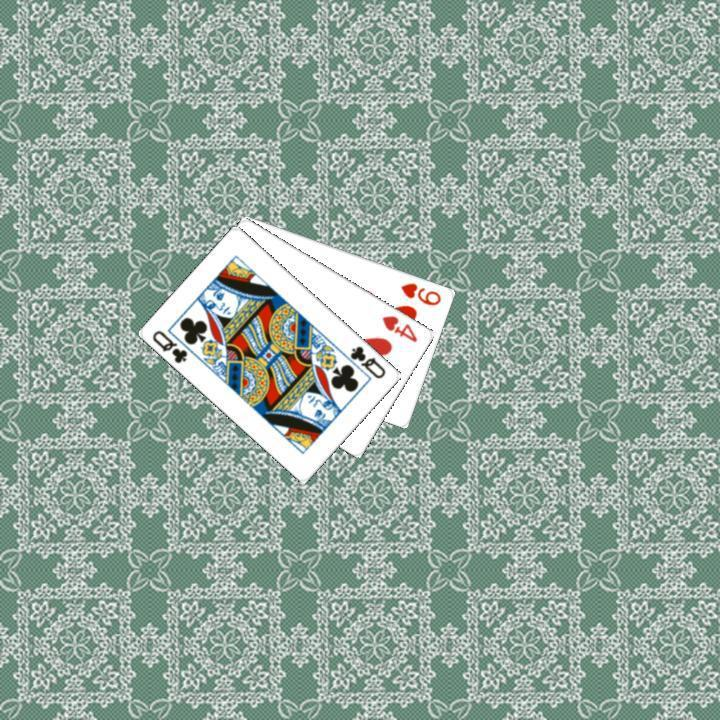4: (378, 311, 420, 344)
9: (397, 278, 443, 307)
Q: (346, 341, 388, 381), (148, 326, 190, 365)
